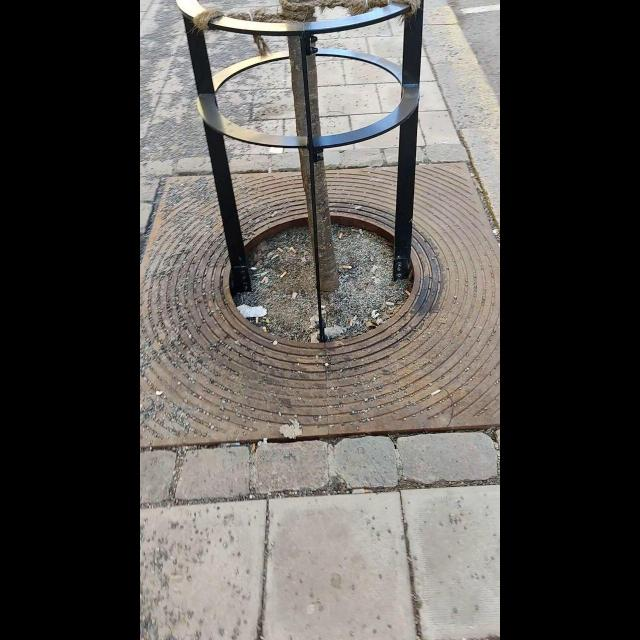cigarette: (290, 292, 298, 302), (430, 390, 441, 397), (262, 324, 268, 333), (404, 290, 411, 297), (290, 246, 296, 254), (371, 266, 377, 274), (280, 272, 288, 278), (386, 300, 394, 306), (359, 227, 364, 236), (343, 265, 352, 270), (261, 276, 267, 283), (255, 316, 260, 324), (339, 232, 343, 240), (349, 320, 353, 328), (278, 248, 282, 252)
